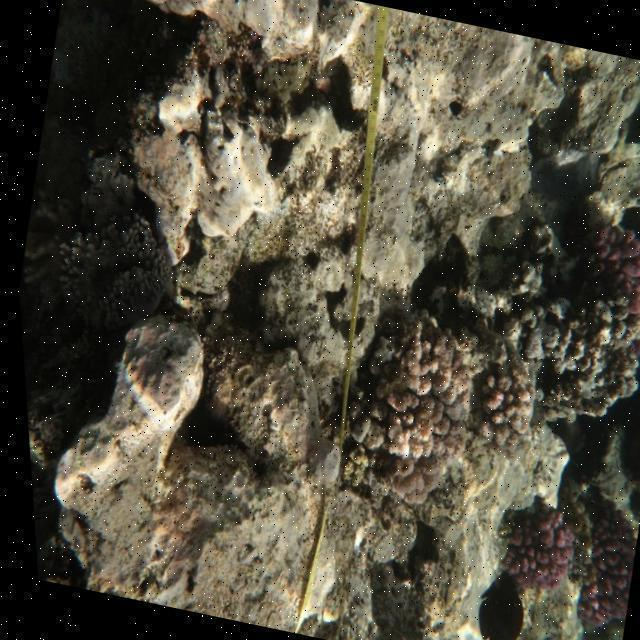Dead Coral: (519, 294, 640, 403)
Healthy Coral: (555, 494, 640, 640), (482, 488, 583, 601)
